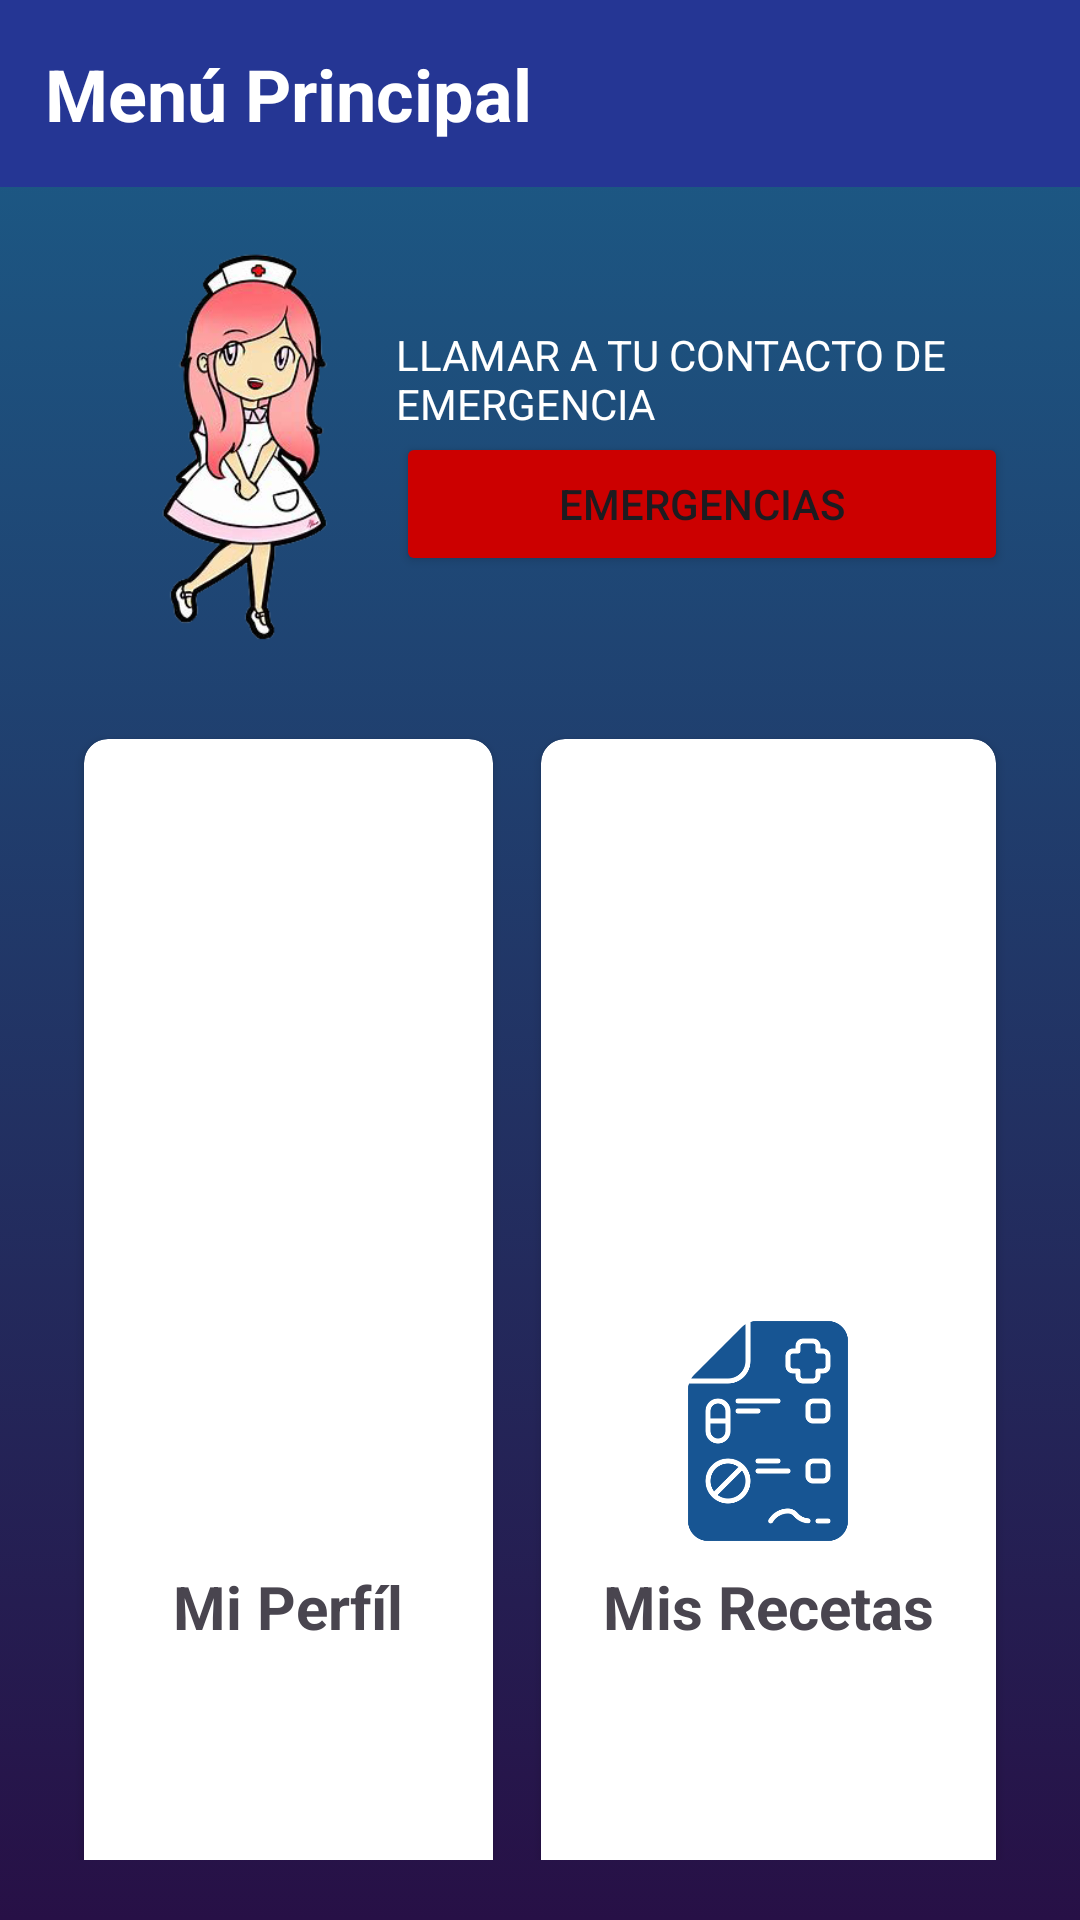

Named icons in this screenshot (1080 x 1920) and their bounding boxes, box=[x1, y1, x2, y2]:
treatment: box=[688, 1321, 848, 1541]
